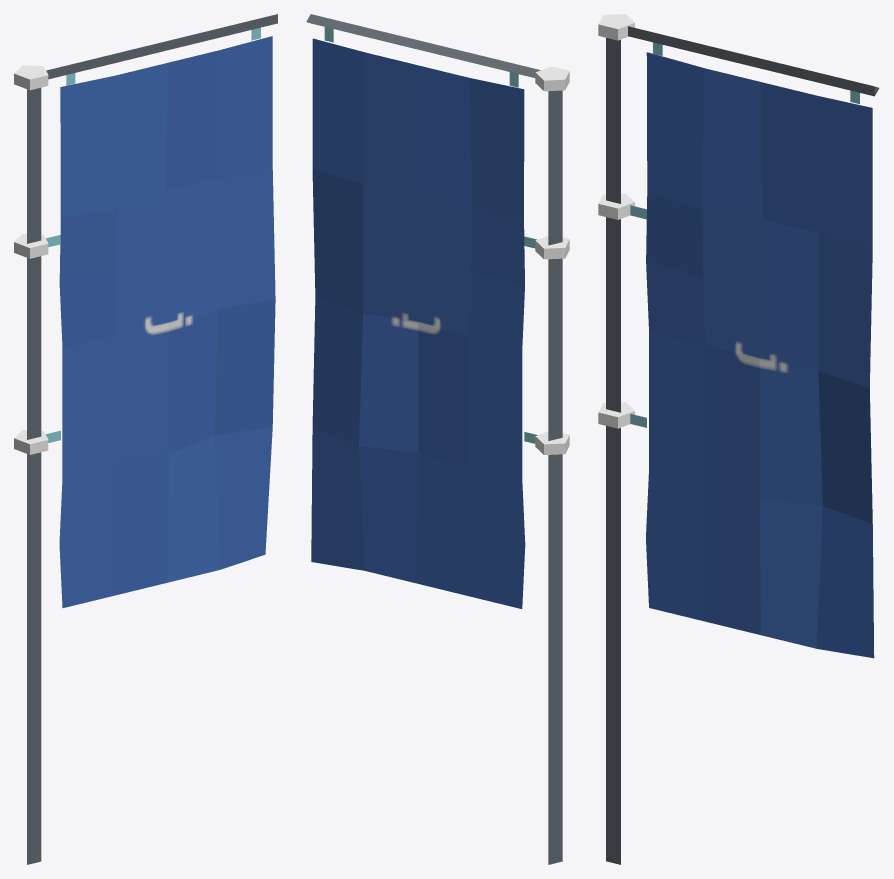
Rendered from hataj.fbx.
3 views of the same model, side by side, from view 1: azimuth 30°, elevation 25°; view 2: azimuth 150°, elevation 25°; view 3: azimuth 330°, elevation 25° (orthographic). The views are drawn at different scales.
Parts seen in each view (by area): view 1: 平面, 円柱, 円柱.004, 円柱.003, 円柱.001, 円柱.002; view 2: 平面, 円柱, 円柱.004, 円柱.003, 円柱.001, 円柱.002; view 3: 平面, 円柱, 円柱.004, 円柱.003, 円柱.002, 円柱.001.
Part boxes in pixels (x1,y1,x2,y2): 平面: (59, 36, 275, 607); 円柱: (27, 87, 41, 864); 円柱.004: (46, 14, 277, 79); 円柱.003: (14, 65, 48, 90); 円柱.001: (14, 430, 48, 454); 円柱.002: (14, 234, 48, 258); 平面: (311, 38, 525, 608); 円柱: (548, 90, 562, 864); 円柱.004: (306, 14, 540, 77); 円柱.003: (535, 66, 569, 91); 円柱.001: (535, 431, 569, 454); 円柱.002: (535, 236, 569, 259); 平面: (646, 52, 874, 658); 円柱: (606, 38, 620, 864); 円柱.004: (628, 26, 879, 96); 円柱.003: (598, 14, 634, 40); 円柱.002: (598, 193, 634, 219); 円柱.001: (598, 402, 634, 428).
Bounding box in the file's own units: 56.98 × 166 × 6.26.
